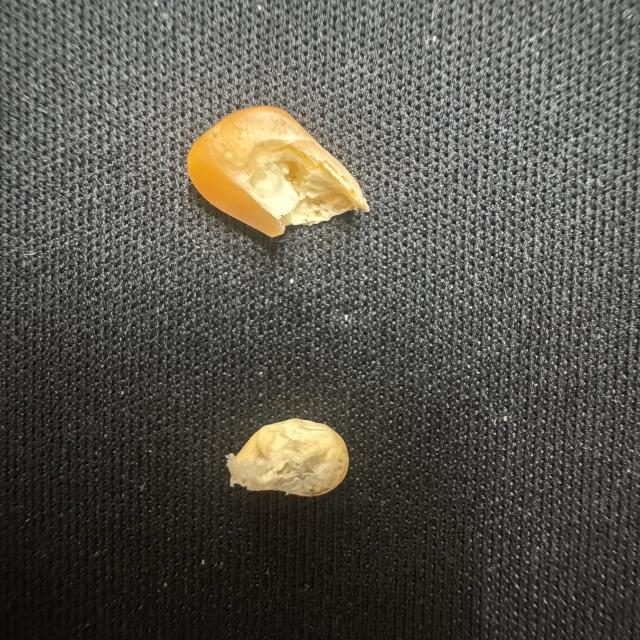Bad-Seed: (178, 101, 381, 248), (218, 413, 358, 504)
